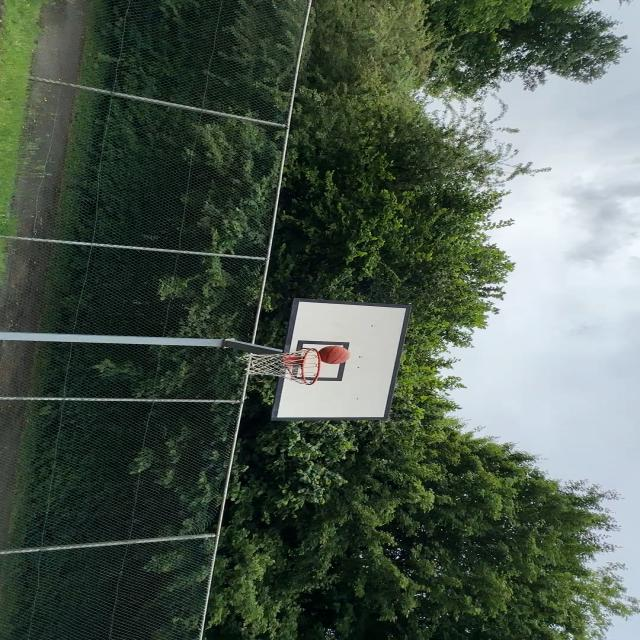rebound_hit: (315, 346, 350, 364)
